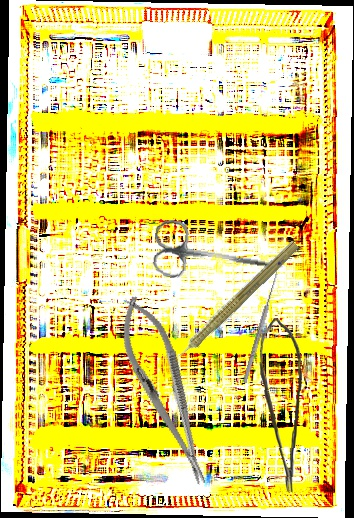Handpiece: (162, 235, 302, 372)
Hook Surgical: (237, 269, 281, 384)
Iris Scissors: (149, 218, 288, 293)
Micro Scissor: (252, 317, 306, 493)
Needle Holder: (106, 289, 224, 493)
